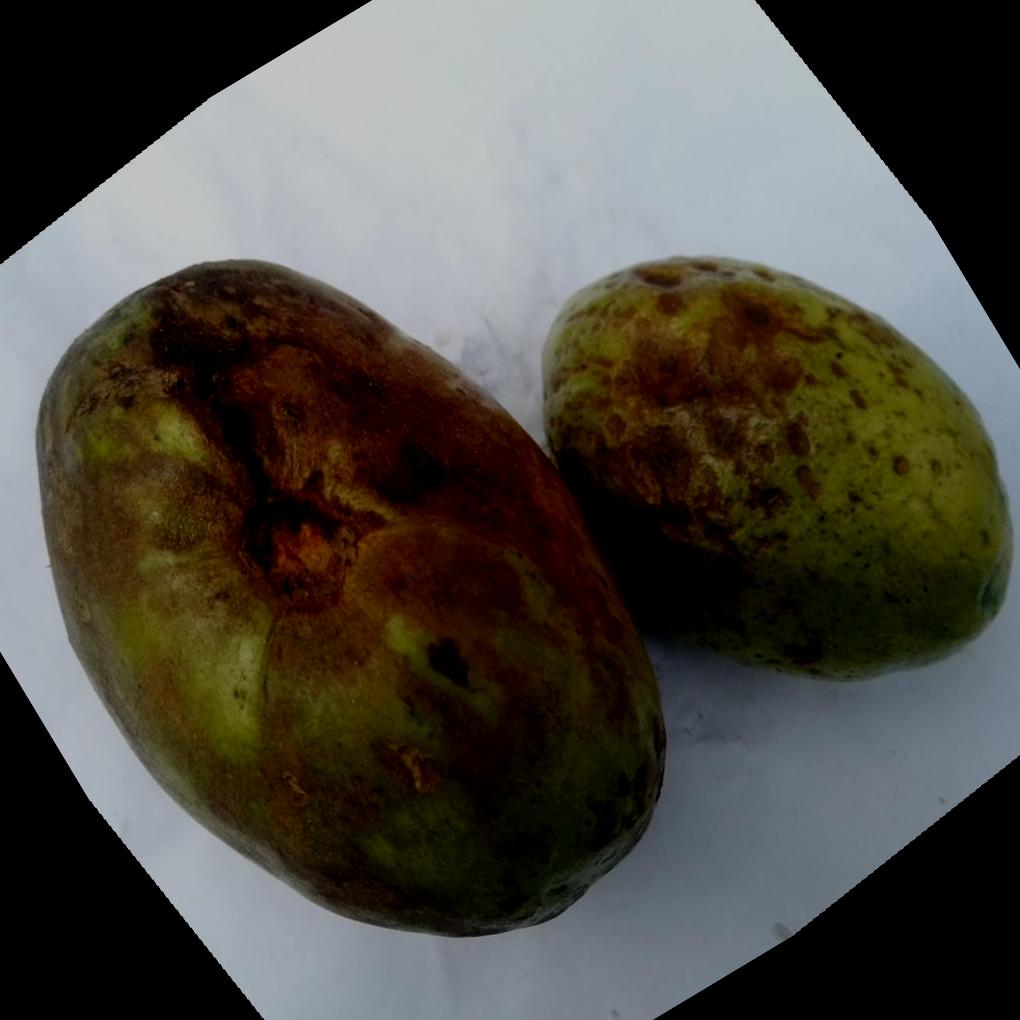FreshOrange: (35, 251, 1017, 938)
